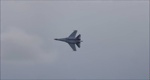maybay_muctieu: (55, 29, 82, 50)
